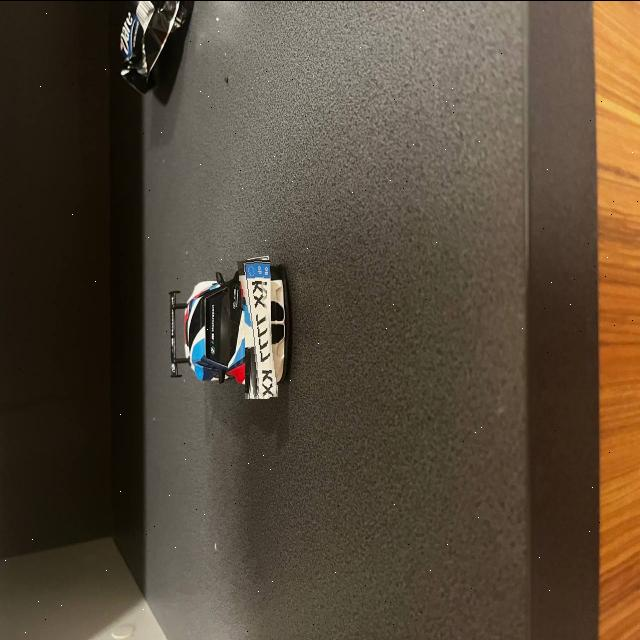KX 7777 KX: (241, 258, 274, 398)
